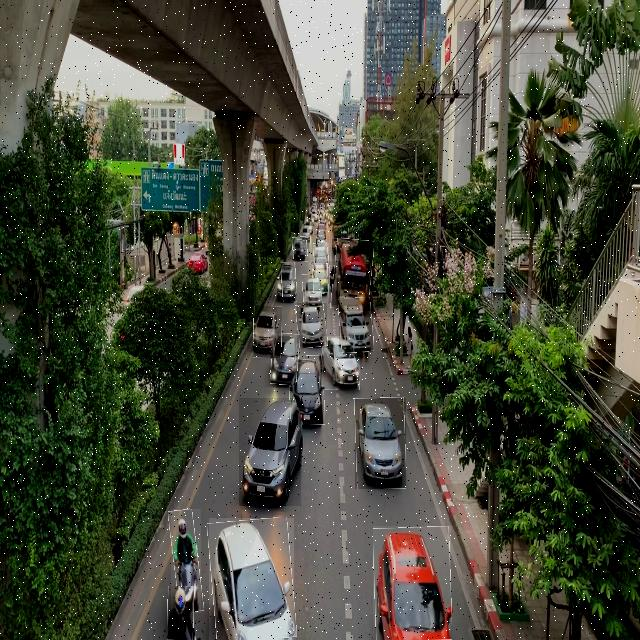Bus: (332, 239, 373, 311)
Car: (209, 518, 294, 640), (373, 526, 451, 640), (239, 398, 301, 506), (355, 398, 406, 489), (290, 356, 324, 425), (322, 336, 360, 390), (339, 298, 373, 352), (254, 306, 282, 358), (271, 333, 299, 384), (297, 303, 327, 348), (302, 274, 322, 307), (282, 262, 296, 302), (313, 263, 328, 293), (292, 237, 308, 262), (313, 243, 329, 268)
Motorcycle: (171, 509, 201, 613), (168, 586, 194, 640), (328, 261, 340, 305)
